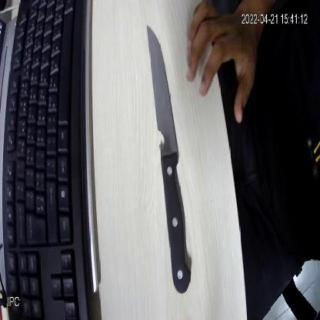knife: (136, 22, 206, 290)
